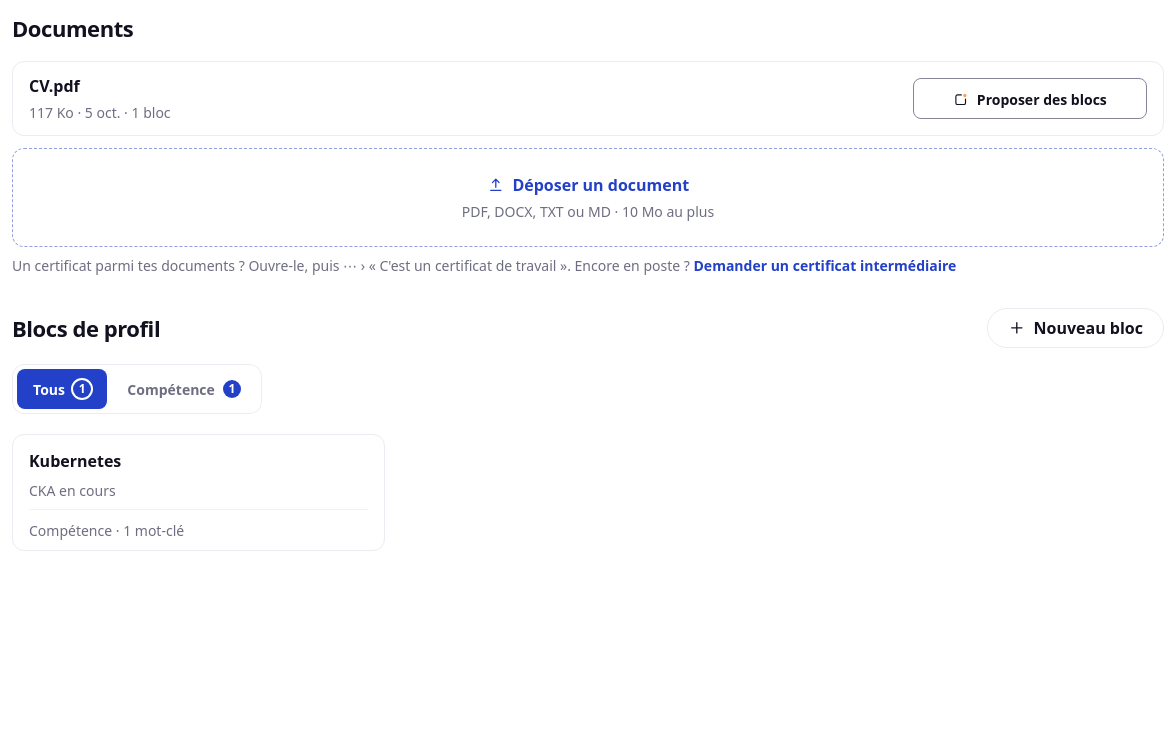
Test: propositions de blocs › explique un refus de l'API
Step 1. Click the button with test id "propose-4" → x=1030, y=99, box x1=913 y1=78 x2=1147 y2=119
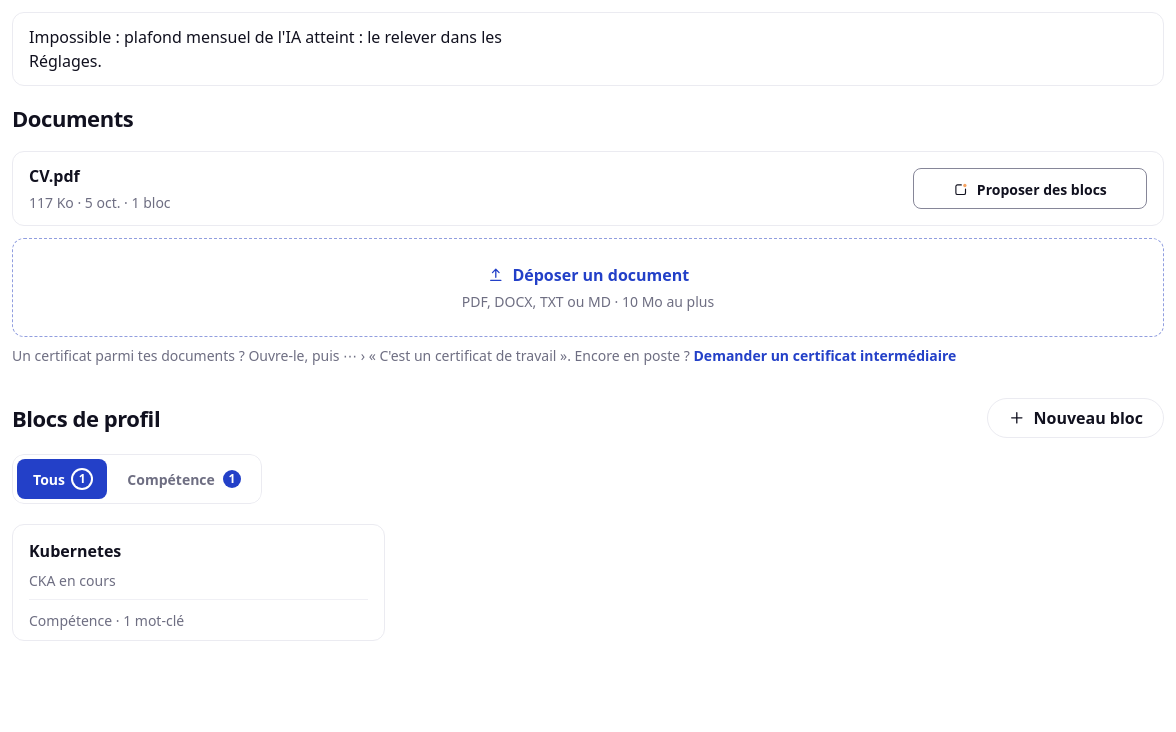
Now the message "Impossible : plafond mensuel de l'IA atteint : le relever dans les Réglages." is shown, box x1=12 y1=12 x2=1164 y2=86
